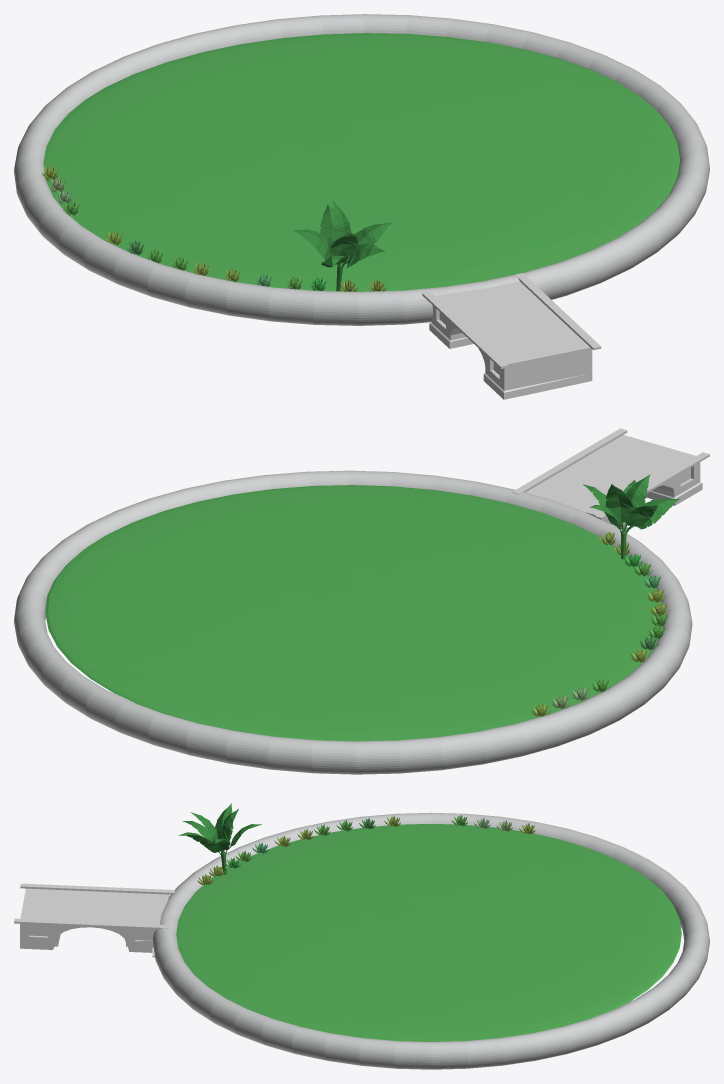
File: ExquisiteJofo9.glb
The picture shows the model from 3 angles, top to bottom: view 1: azimuth 30°, elevation 25°; view 2: azimuth 150°, elevation 25°; view 3: azimuth 270°, elevation 25°; orthographic projection. The views are drawn at different scales.
Visible parts, largest first — view 1: Mesh_Mesh_head_geo.001_lambert2SG.001; view 2: Mesh_Mesh_head_geo.001_lambert2SG.001; view 3: Mesh_Mesh_head_geo.001_lambert2SG.001.
Part boxes in pixels (x1,y1,x2,y2): Mesh_Mesh_head_geo.001_lambert2SG.001: (14, 14, 709, 399); Mesh_Mesh_head_geo.001_lambert2SG.001: (14, 428, 709, 774); Mesh_Mesh_head_geo.001_lambert2SG.001: (14, 803, 709, 1069).
Bounding box in the file's own units: 0.101 × 0.0178 × 0.1236.
